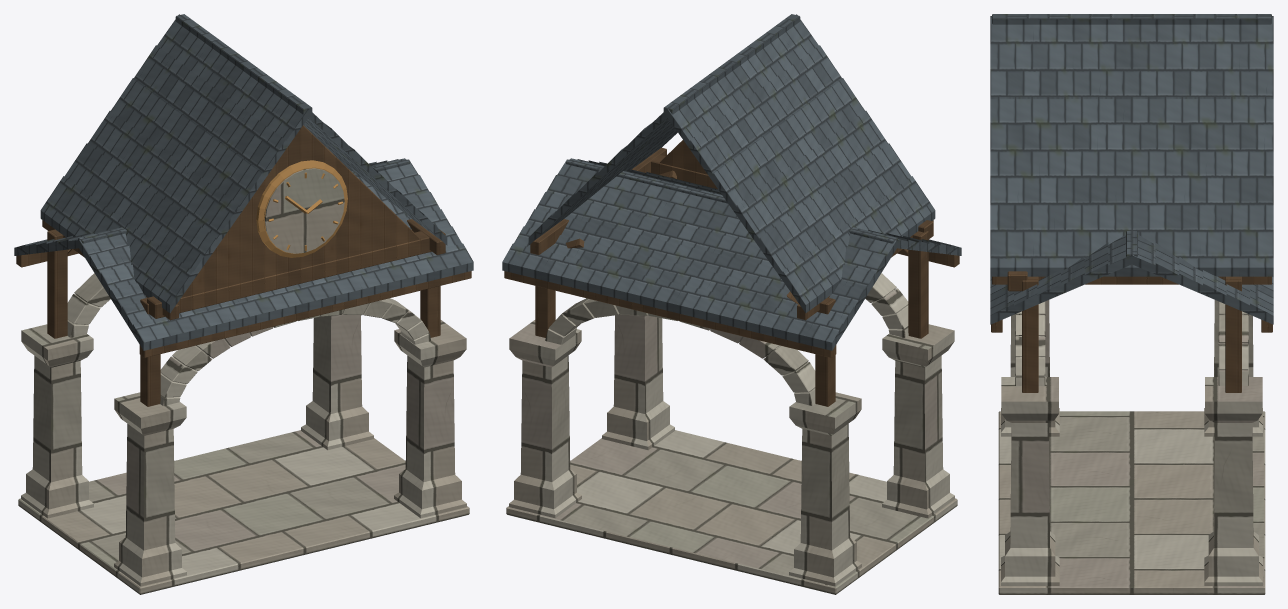
File: Furn_Arcade2_Gate.fbx
3 renders of one model, left to right at view 1: azimuth 30°, elevation 25°; view 2: azimuth 150°, elevation 25°; view 3: azimuth 270°, elevation 25°, orthographic. The views are drawn at different scales.
Visible parts, largest first — view 1: Furn_Arcade2_Gate_Mesh; view 2: Furn_Arcade2_Gate_Mesh; view 3: Furn_Arcade2_Gate_Mesh.
Part boxes in pixels (box(x1,y1,x2,y2)): Furn_Arcade2_Gate_Mesh: box(14, 14, 473, 594); Furn_Arcade2_Gate_Mesh: box(502, 14, 961, 594); Furn_Arcade2_Gate_Mesh: box(990, 14, 1273, 594).
Size of the model in its own units: 5 by 6.5 by 3.4.
4 materials, 3 textured.
